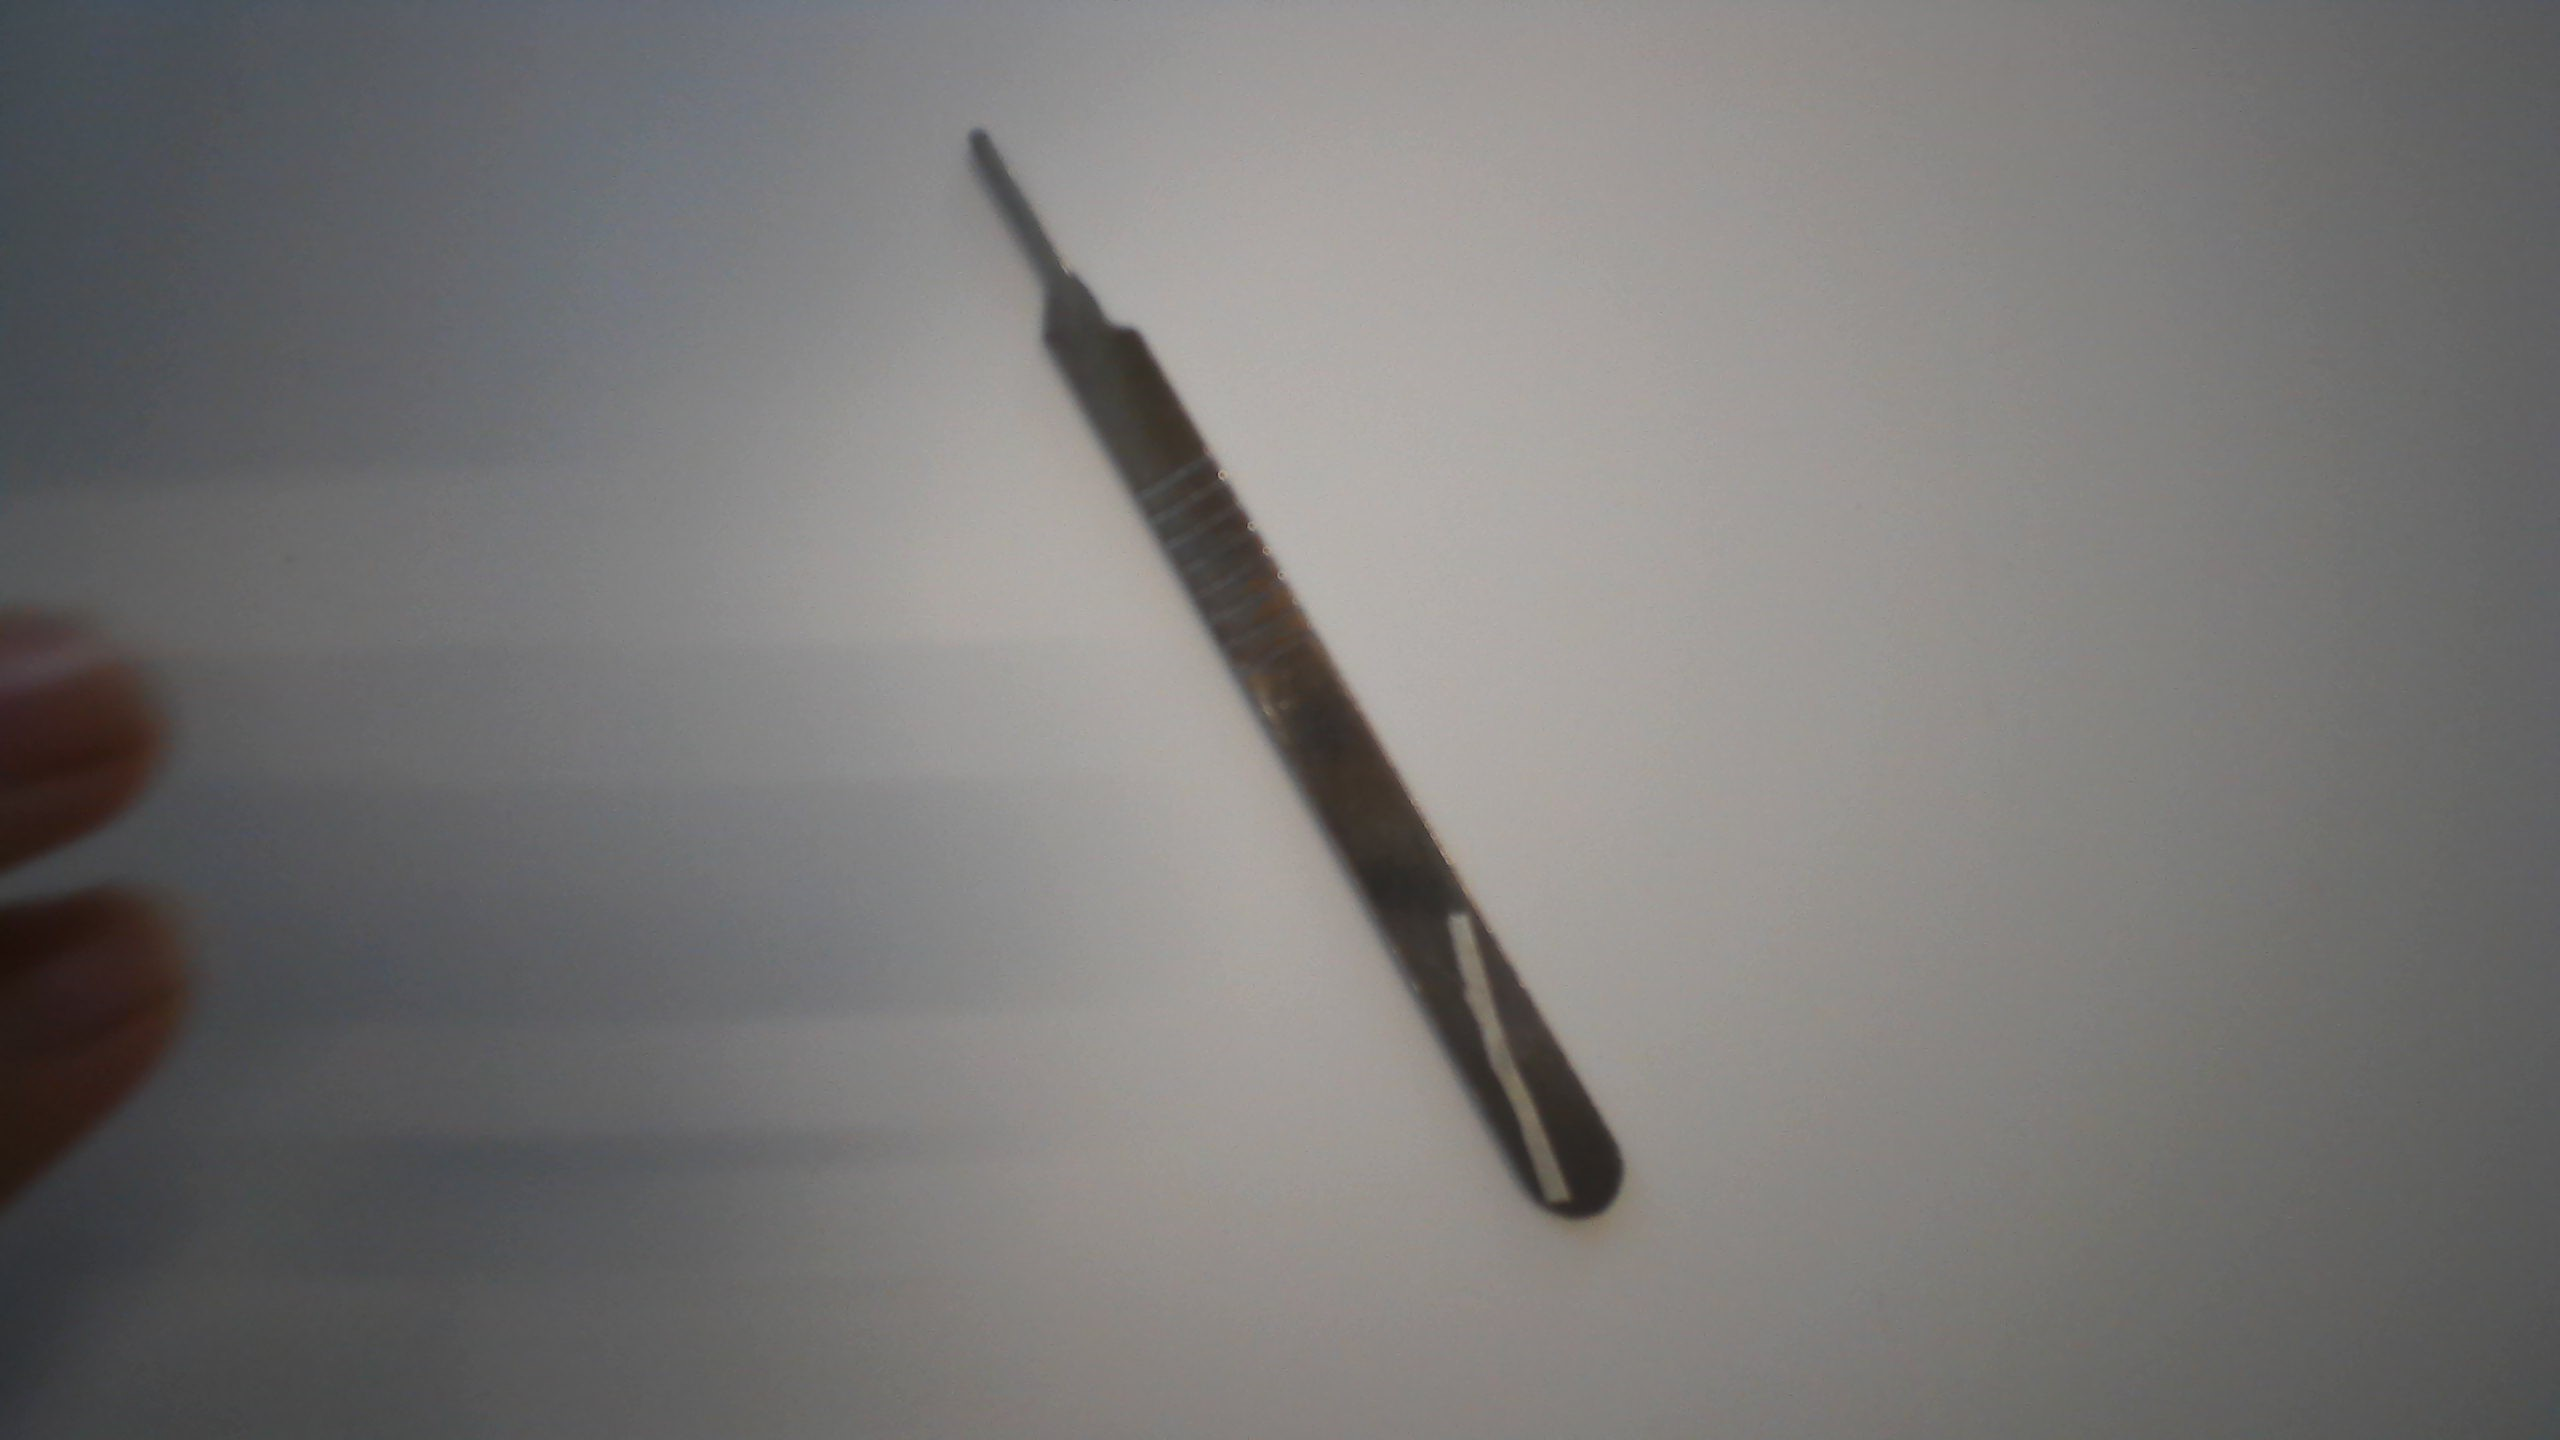Scratches: (1444, 909, 1577, 1215)
